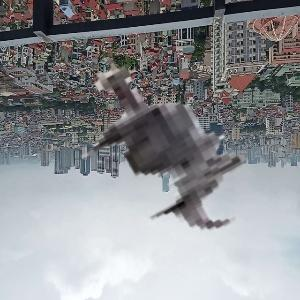drone: (30, 27, 269, 266)
